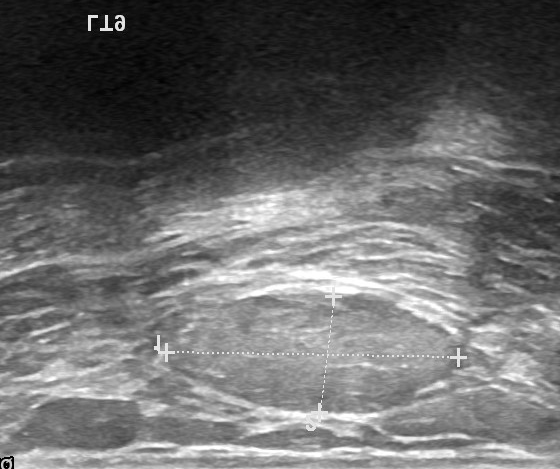Benign: (191, 290, 446, 406)
